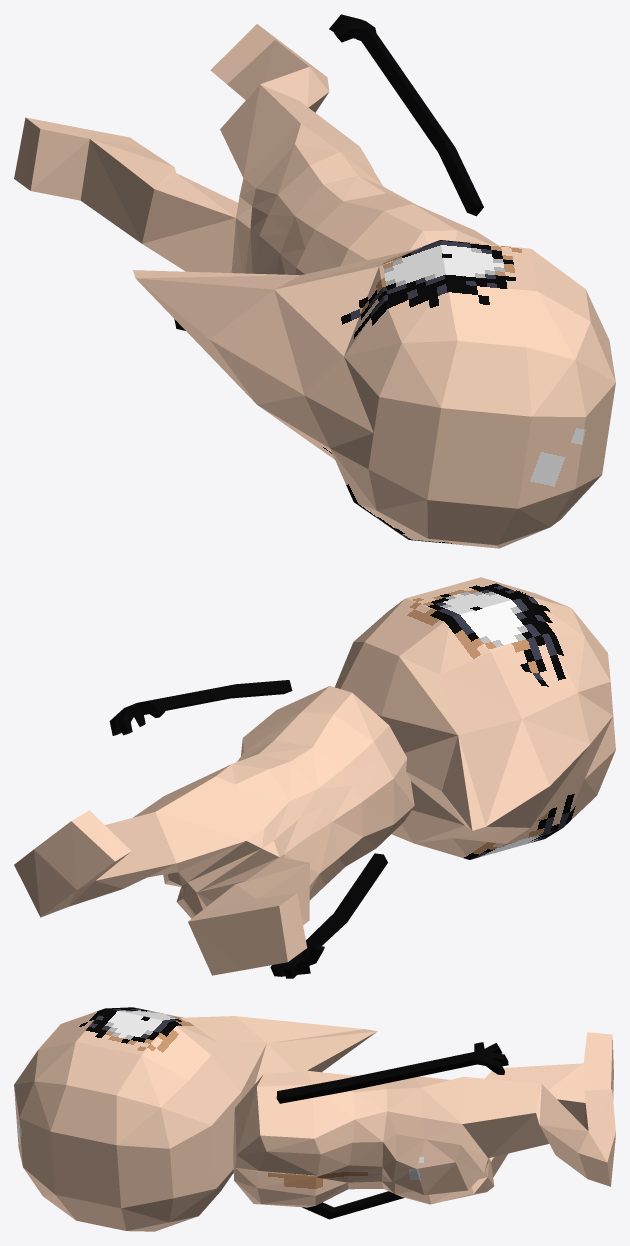
Rendered from impKing_wounded.obj.
The picture shows the model from 3 angles, top to bottom: view 1: azimuth 30°, elevation 25°; view 2: azimuth 150°, elevation 25°; view 3: azimuth 270°, elevation 25°; orthographic projection. The views are drawn at different scales.
Parts seen in each view (by area): view 1: Cube.018; view 2: Cube.018; view 3: Cube.018.
Part boxes in pixels (x1=…): Cube.018: x1=14, y1=14, x2=615, y2=548; Cube.018: x1=14, y1=577, x2=615, y2=978; Cube.018: x1=14, y1=1007, x2=615, y2=1231.
Size of the model in its own units: 3.62 by 2.9 by 7.23.
Materials: 1 (1 with a texture image).
